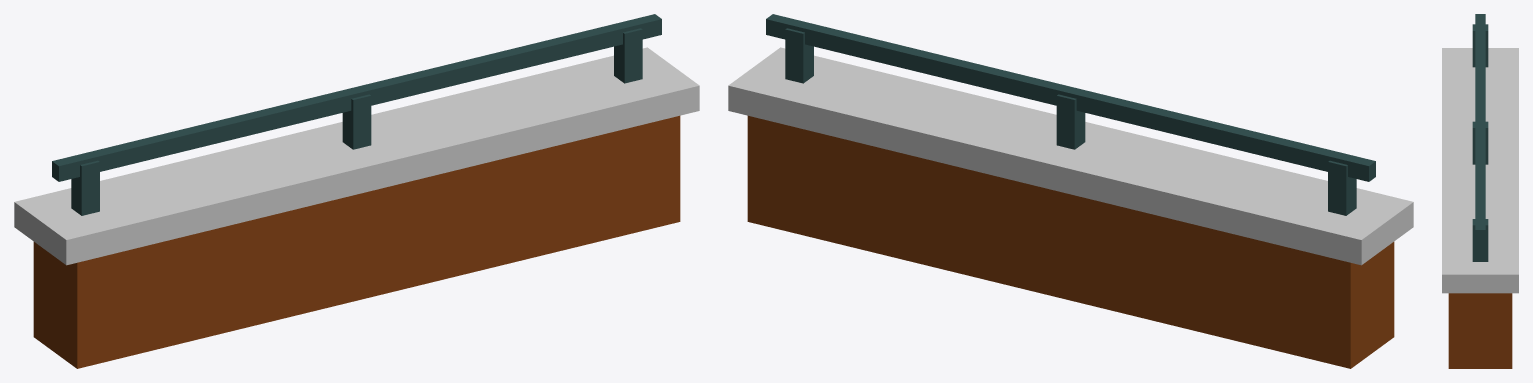
Rendered from canal_barrier.glb.
3 views of the same model, side by side, from view 1: azimuth 30°, elevation 25°; view 2: azimuth 150°, elevation 25°; view 3: azimuth 270°, elevation 25° (orthographic). The views are drawn at different scales.
Visible parts, largest first — view 1: CanalBarrier; view 2: CanalBarrier; view 3: CanalBarrier.
Part boxes in pixels (box(x1,y1,x2,y2)): CanalBarrier: box(14, 14, 699, 368); CanalBarrier: box(728, 14, 1413, 368); CanalBarrier: box(1442, 14, 1518, 368).
Bounding box in the file's own units: 4.2 × 1.2 × 0.6.
